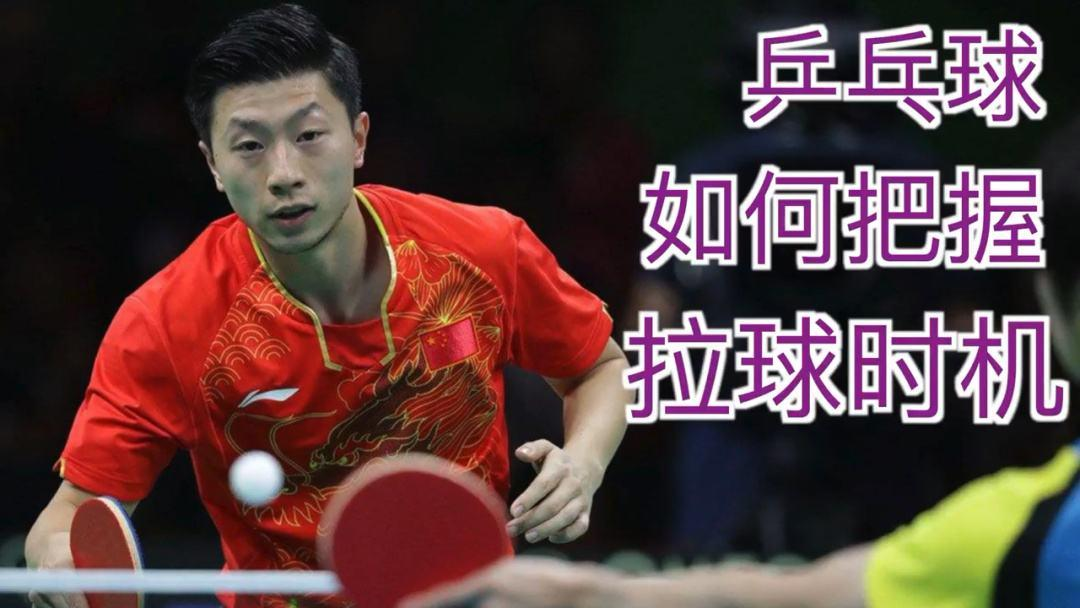ball: (223, 445, 286, 509)
